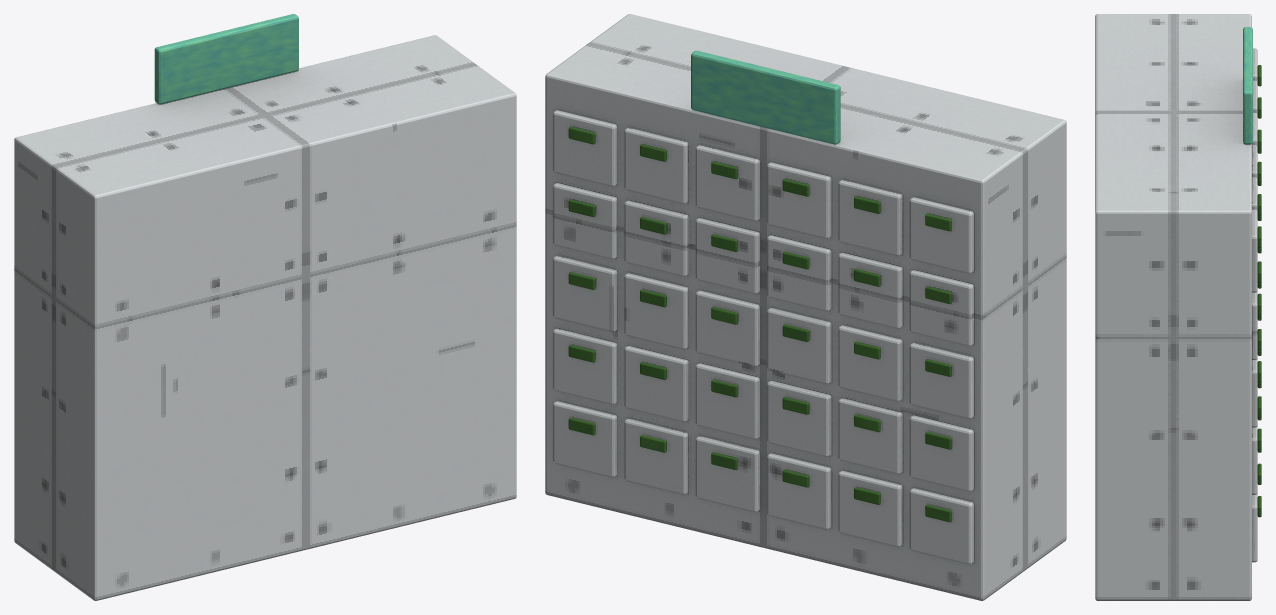
The model's file is base_seed_cabinet.glb.
The picture shows the model from 3 angles, left to right: view 1: azimuth 30°, elevation 25°; view 2: azimuth 150°, elevation 25°; view 3: azimuth 270°, elevation 25°; orthographic projection. The views are drawn at different scales.
Parts seen in each view (by area): view 1: base_seed_cabinet; view 2: base_seed_cabinet; view 3: base_seed_cabinet.
Boxes of the visible parts, x1=… form: base_seed_cabinet: x1=14, y1=14, x2=516, y2=600; base_seed_cabinet: x1=545, y1=14, x2=1066, y2=600; base_seed_cabinet: x1=1095, y1=14, x2=1261, y2=600.
Size of the model in its own units: 2.4 by 2.5 by 0.85.
3 materials, 3 textured.
